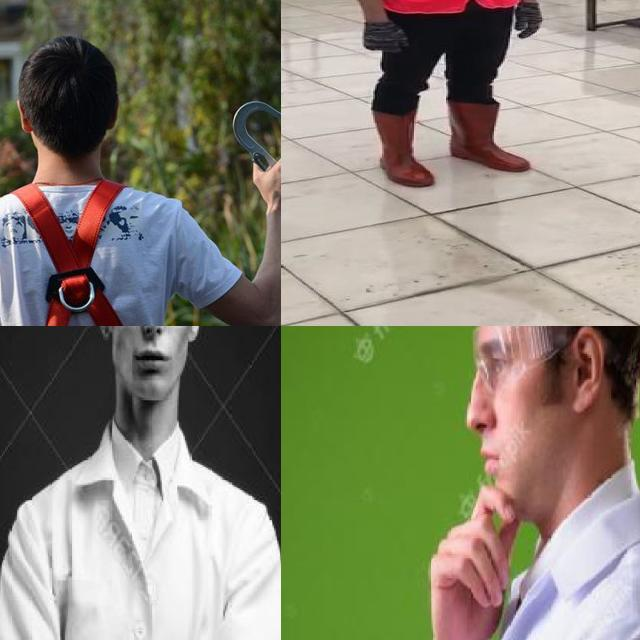Harness: (0, 181, 173, 326)
No_Ear-Protection: (567, 326, 614, 416)
boots: (359, 106, 437, 190), (454, 97, 530, 171)
face_mask: (473, 326, 594, 391)
face_nomask: (452, 334, 531, 485), (108, 326, 191, 376)
hand_noglove: (421, 489, 526, 640)
person: (0, 326, 281, 640), (401, 326, 640, 640), (327, 0, 540, 192)
